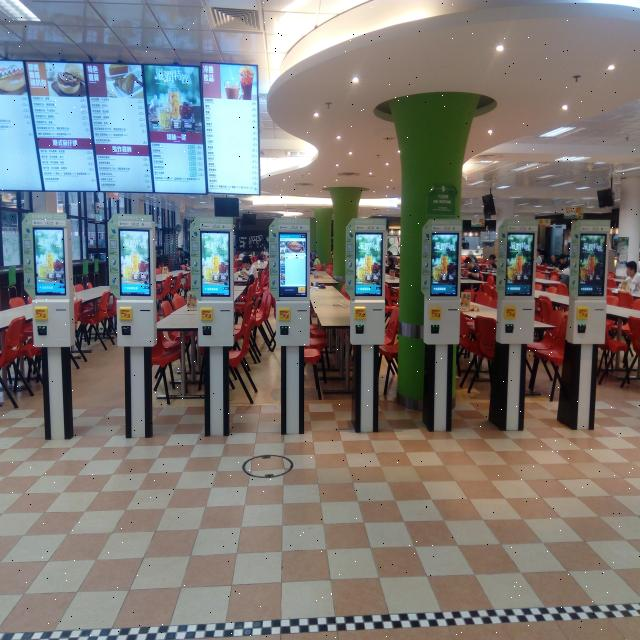orderKiosk: (30, 220, 72, 350), (115, 224, 155, 350), (194, 221, 234, 347), (426, 226, 462, 346), (274, 228, 310, 346), (352, 227, 386, 345), (573, 228, 606, 344), (502, 226, 534, 343)
